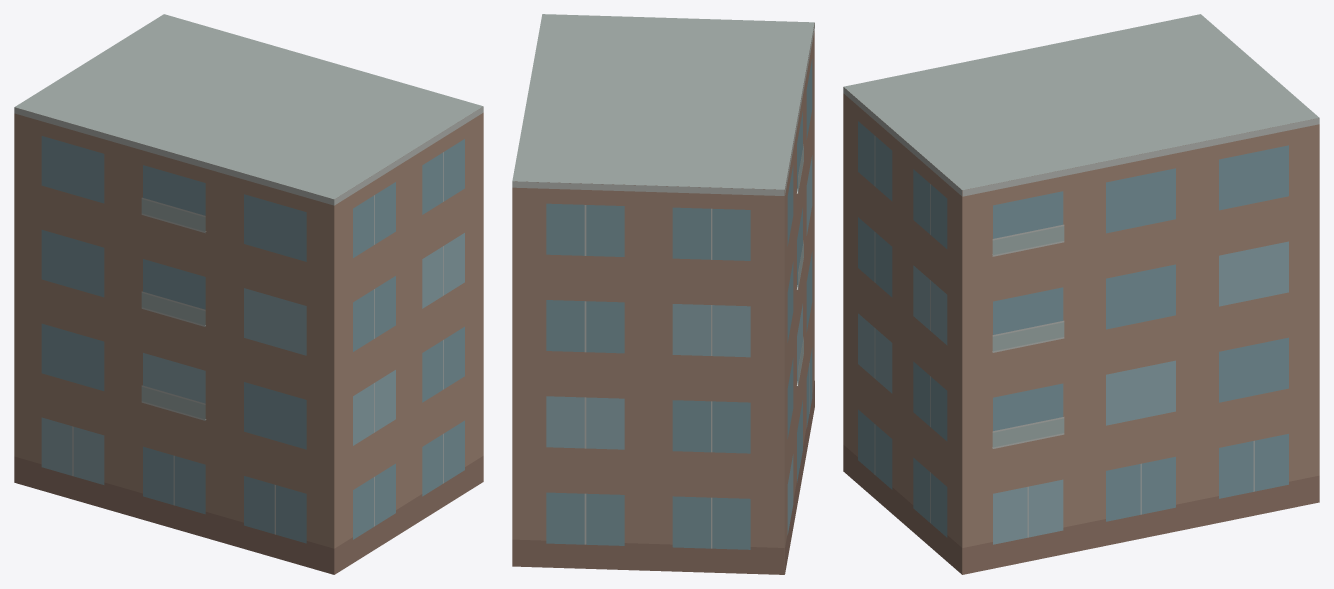
The model's file is survey-upis-33041179.glb.
3 views of the same model, side by side, from view 1: azimuth 30°, elevation 25°; view 2: azimuth 150°, elevation 25°; view 3: azimuth 270°, elevation 25° (orthographic). The views are drawn at different scales.
Parts seen in each view (by area): view 1: survey-upis-33041179.tmp; view 2: survey-upis-33041179.tmp; view 3: survey-upis-33041179.tmp.
Part boxes in pixels (x1=…): survey-upis-33041179.tmp: x1=14, y1=14, x2=483, y2=574; survey-upis-33041179.tmp: x1=512, y1=14, x2=814, y2=574; survey-upis-33041179.tmp: x1=843, y1=14, x2=1319, y2=574.
Bounding box in the file's own units: 14.47 × 14.7 × 16.51.
